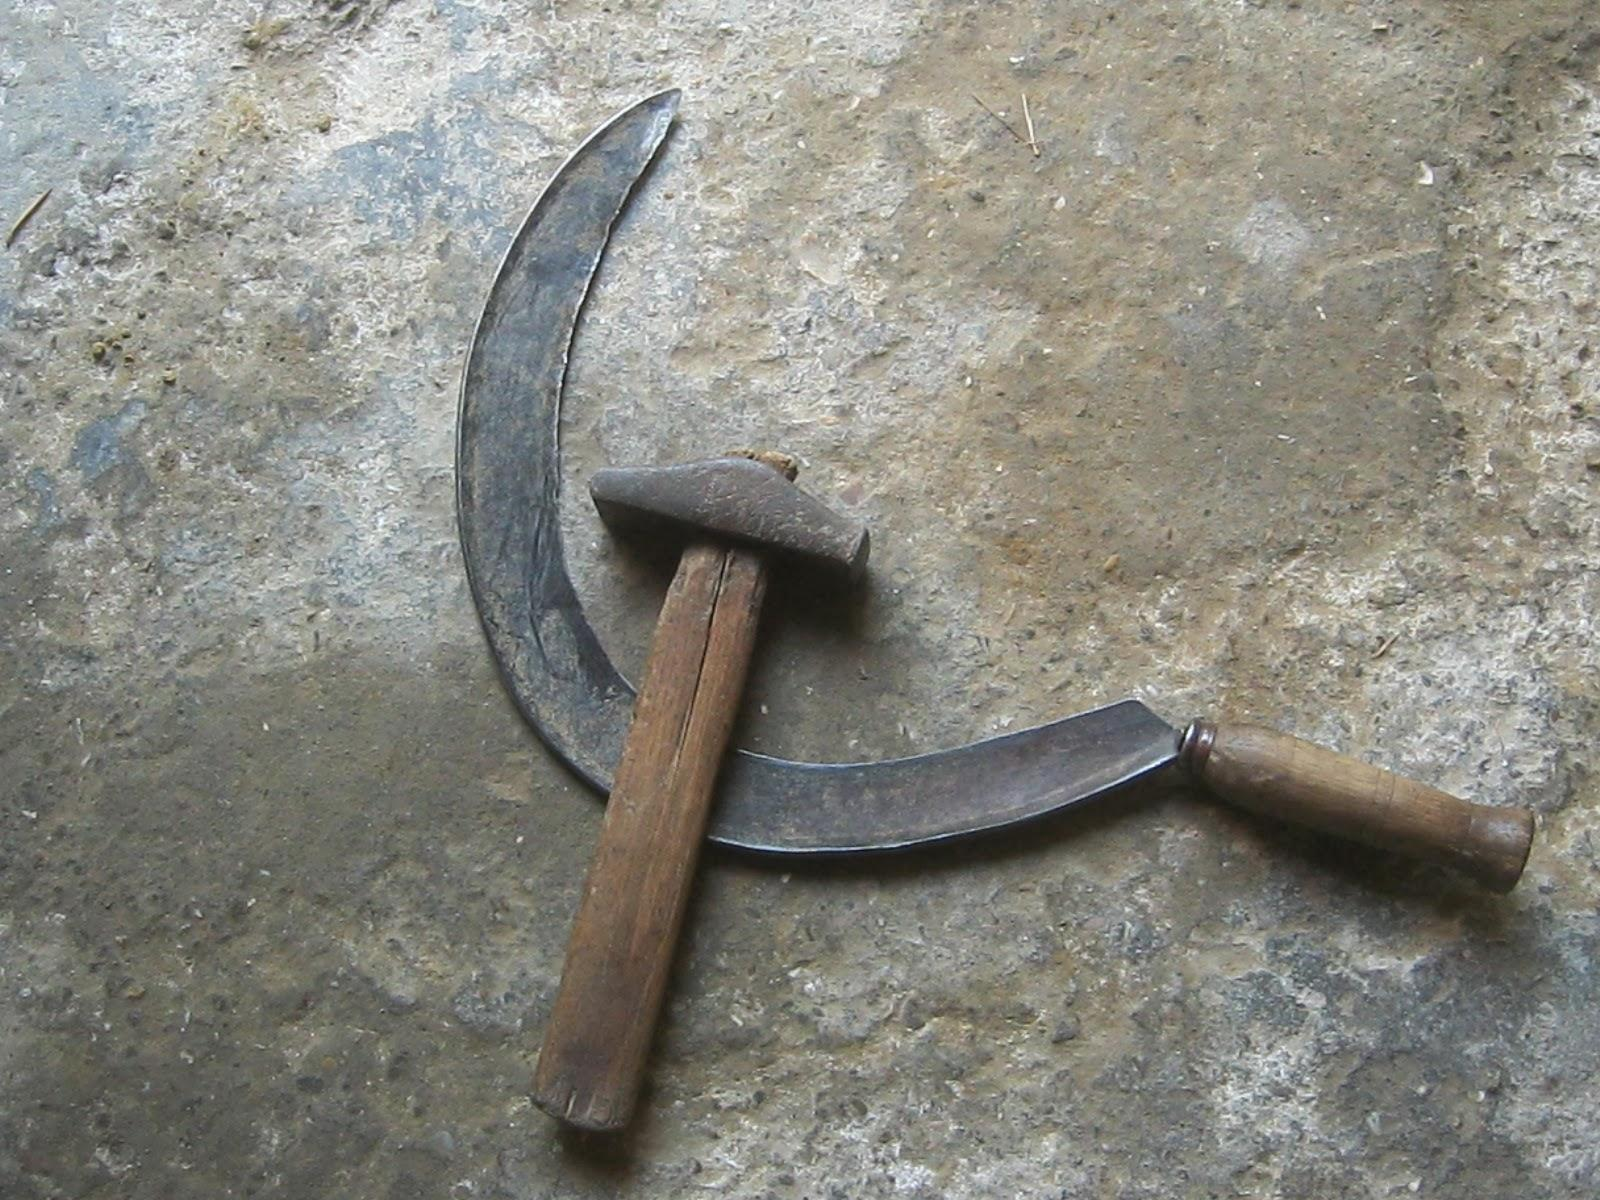foice: (457, 77, 1540, 900)
